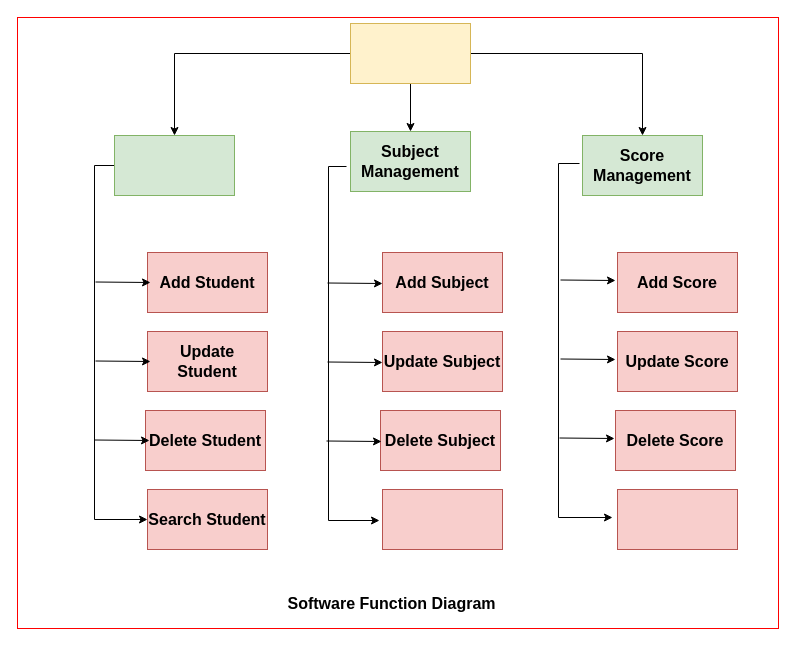
This 796x646 diagram has some shape labels left out. Here are the shapes that lost their labels. From the top down, the box of each, then its label:
(350, 22, 470, 84): Main Screen
(114, 134, 234, 196): Student Management
(382, 488, 502, 550): Search Subject
(616, 488, 738, 550): Search Score
